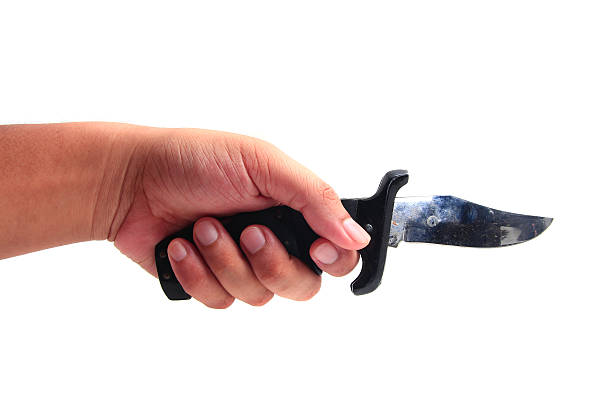knife: (151, 167, 556, 302)
